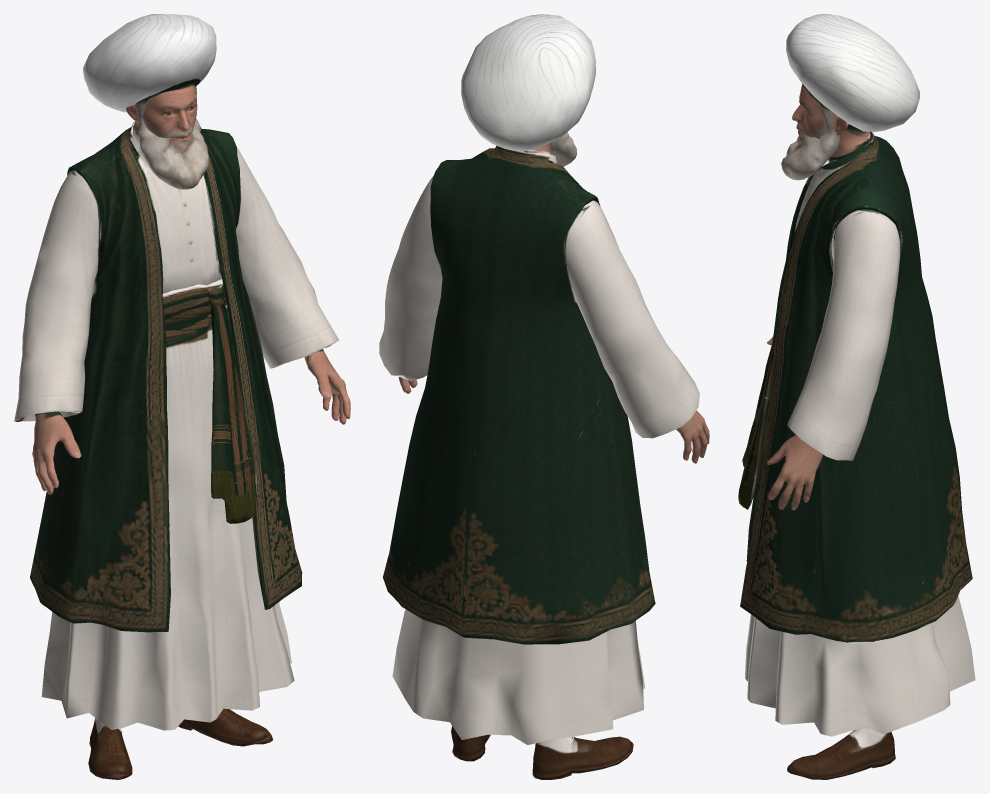
File: Meshy_AI_model.glb
3 views of the same model, side by side, from view 1: azimuth 30°, elevation 25°; view 2: azimuth 150°, elevation 25°; view 3: azimuth 270°, elevation 25° (orthographic). The views are drawn at different scales.
Size of the model in its own units: 0.455 by 1 by 0.302.
Materials: 1 (1 with a texture image).
